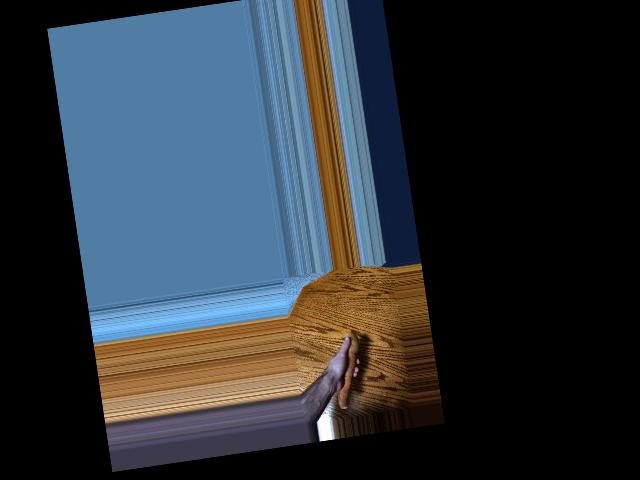sweet_potato: (326, 331, 370, 411)
